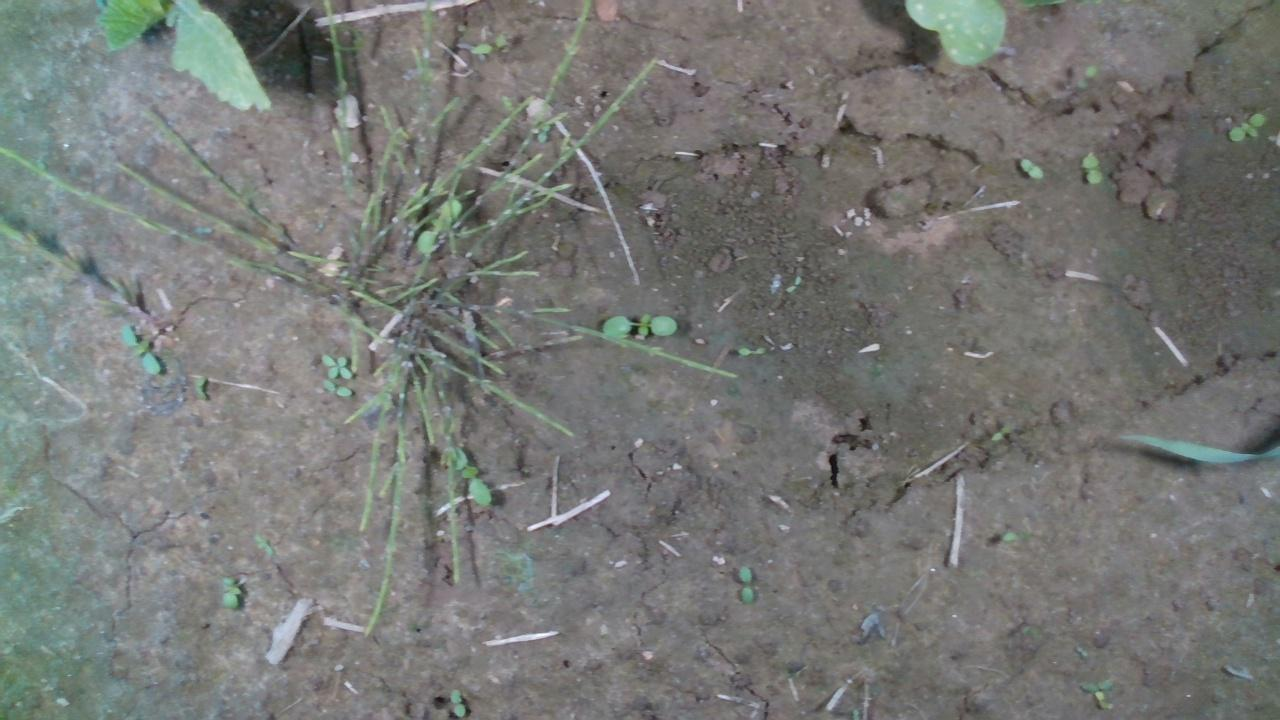weed: (119, 323, 161, 378), (219, 573, 241, 611), (1078, 153, 1103, 185), (736, 563, 754, 604), (1018, 156, 1044, 179), (447, 686, 465, 718), (191, 371, 209, 402), (253, 531, 274, 557), (989, 421, 1012, 442), (736, 344, 766, 357)
